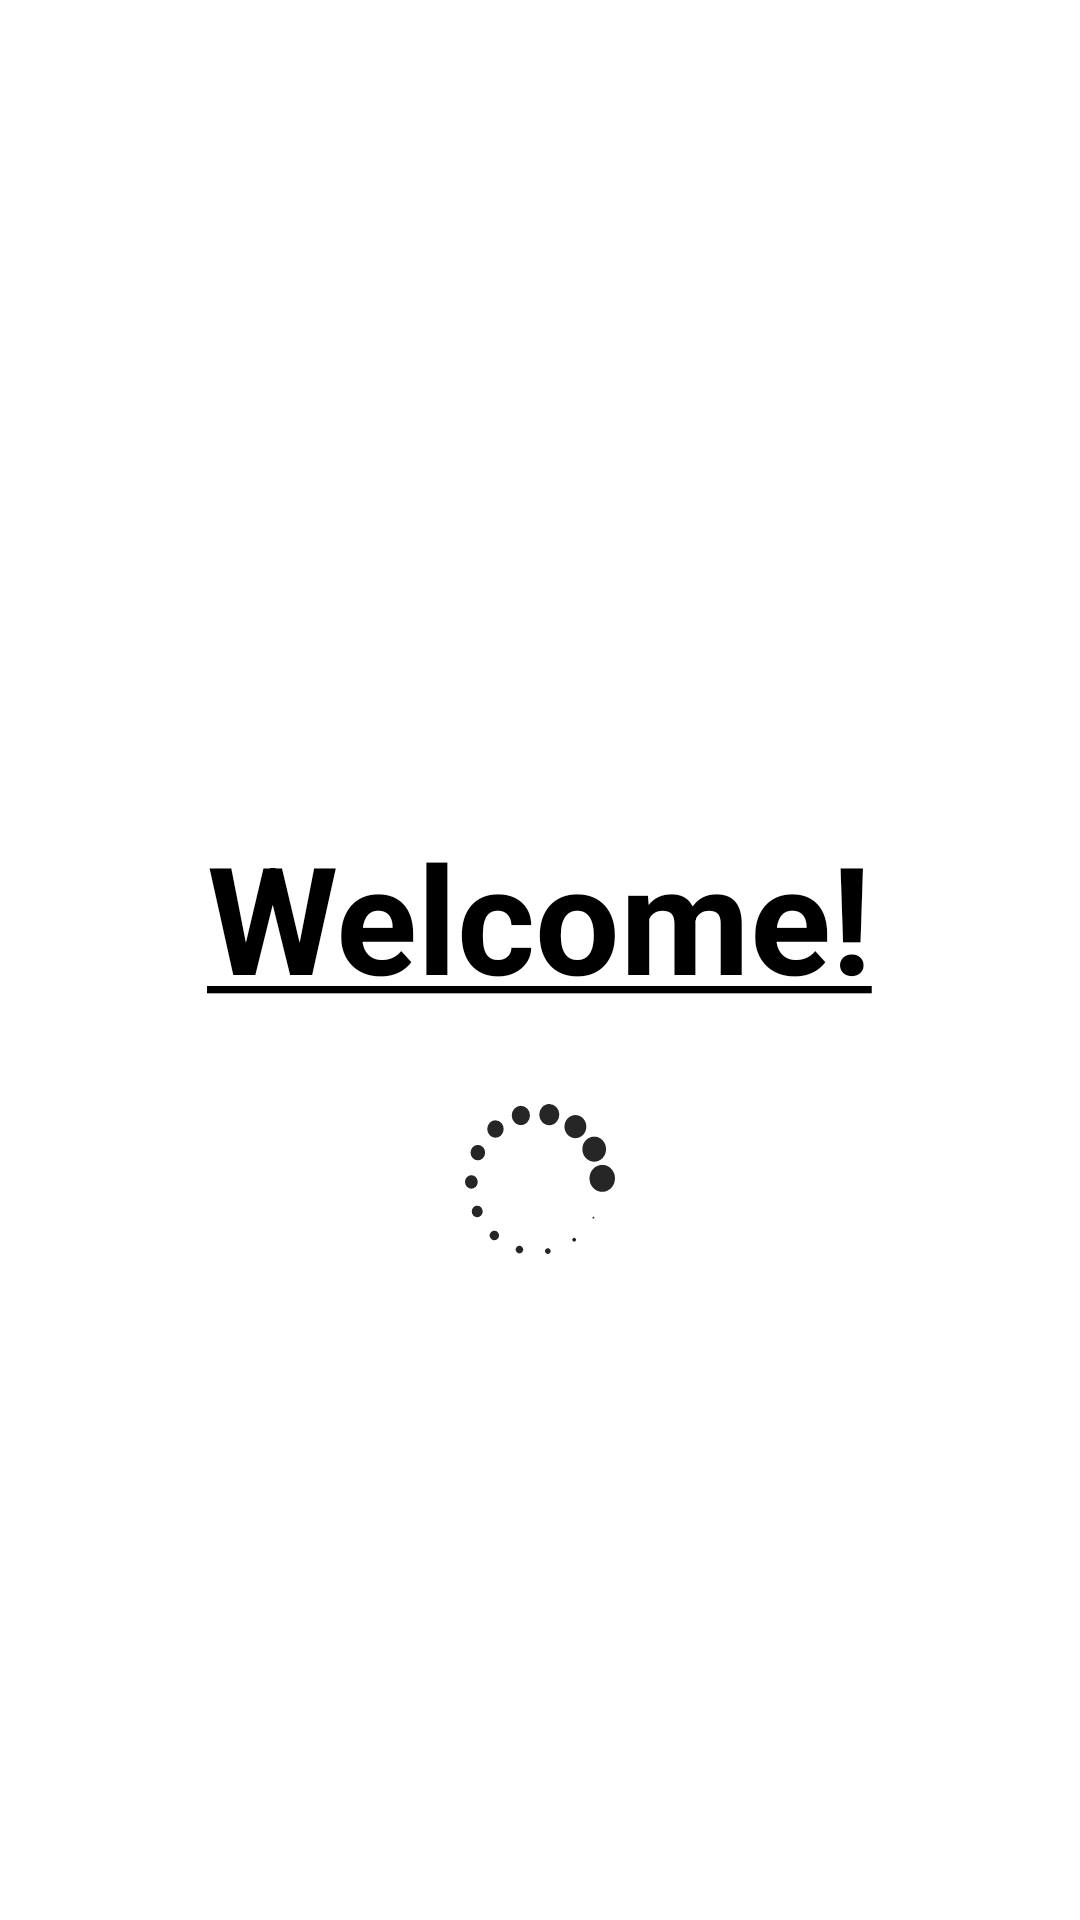

Where icons sit on this 1080px×1920px app screen, as (x1, y1, x2, y2):
loading: (465, 1104, 615, 1254)
